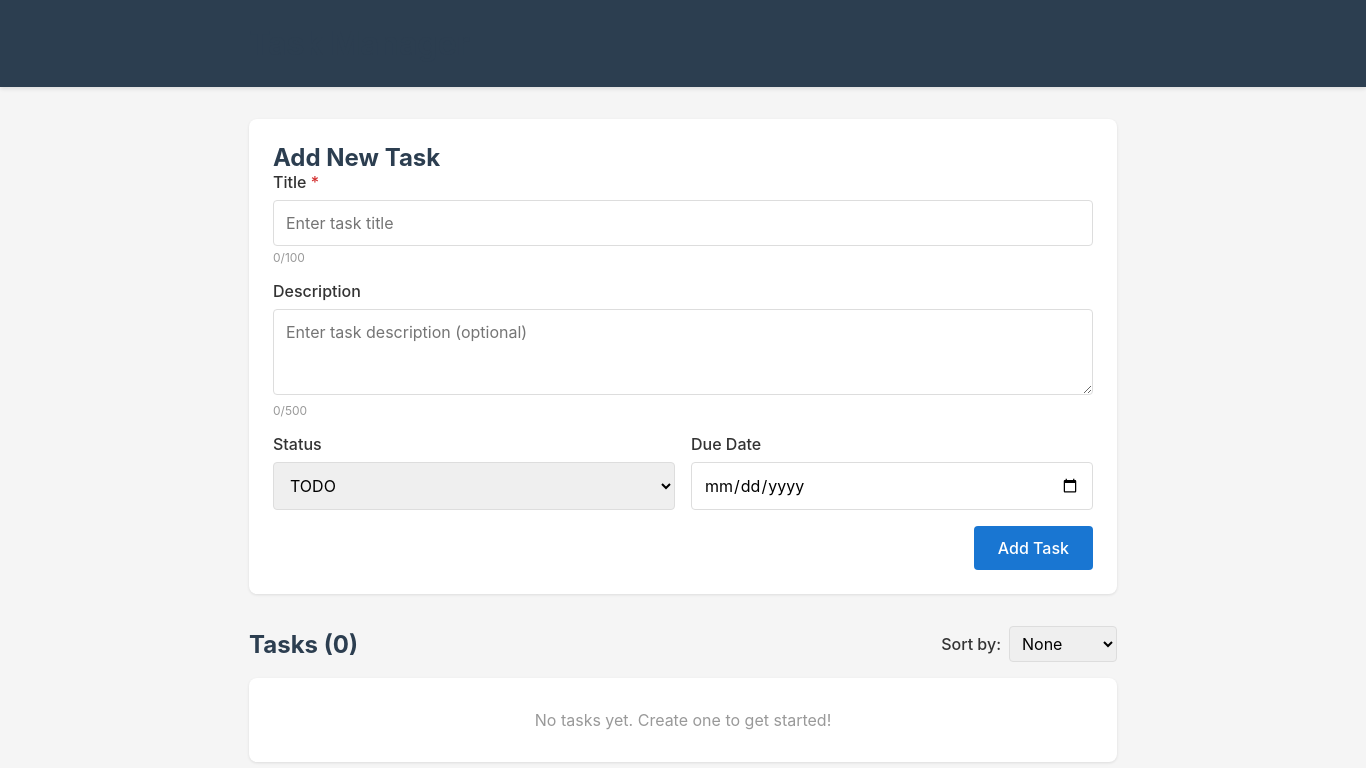
Scenario: App Component › Create Task › should display error message if creation fails
The image size is (1366, 768).
Type "New Task" into the field labelled "Title *" at (683, 223), box [273,200,1093,246]
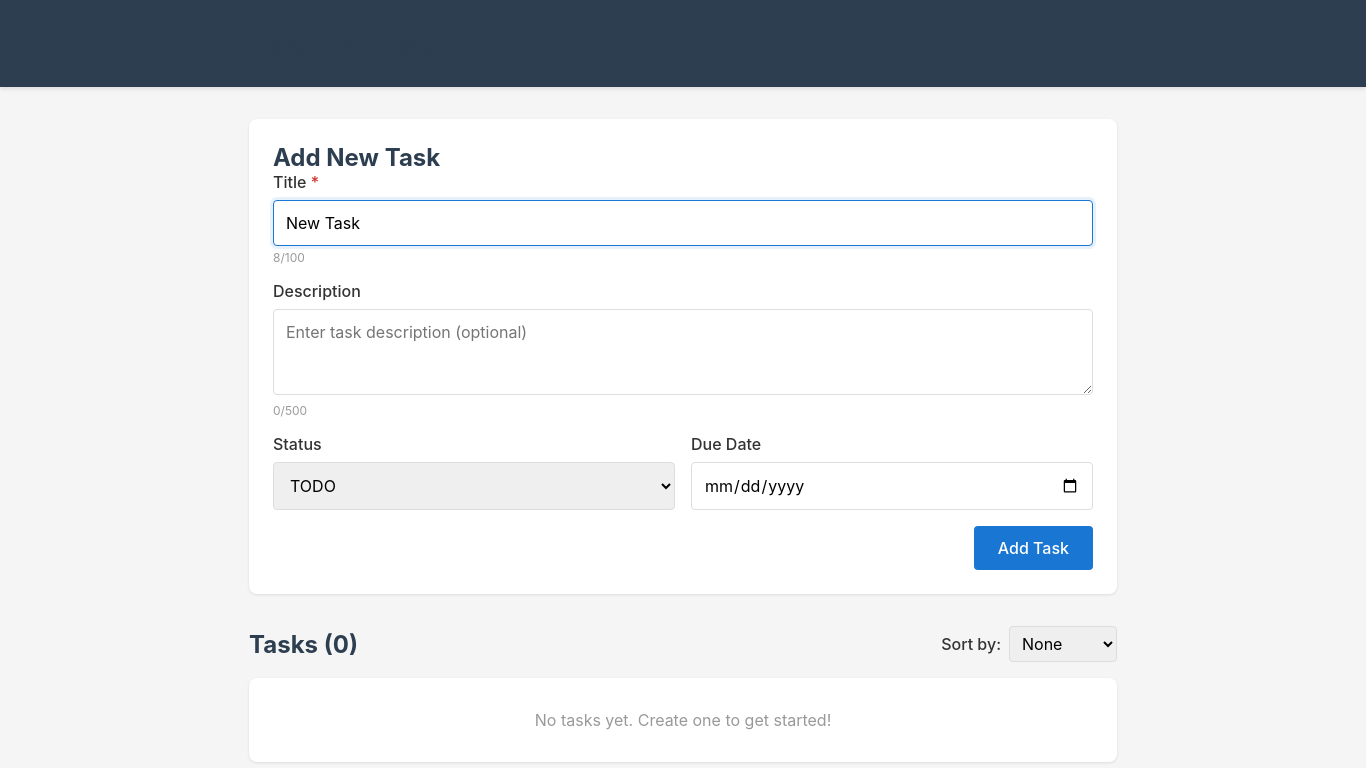
Click the button "Add Task" at (1033, 548), box [974,526,1093,570]
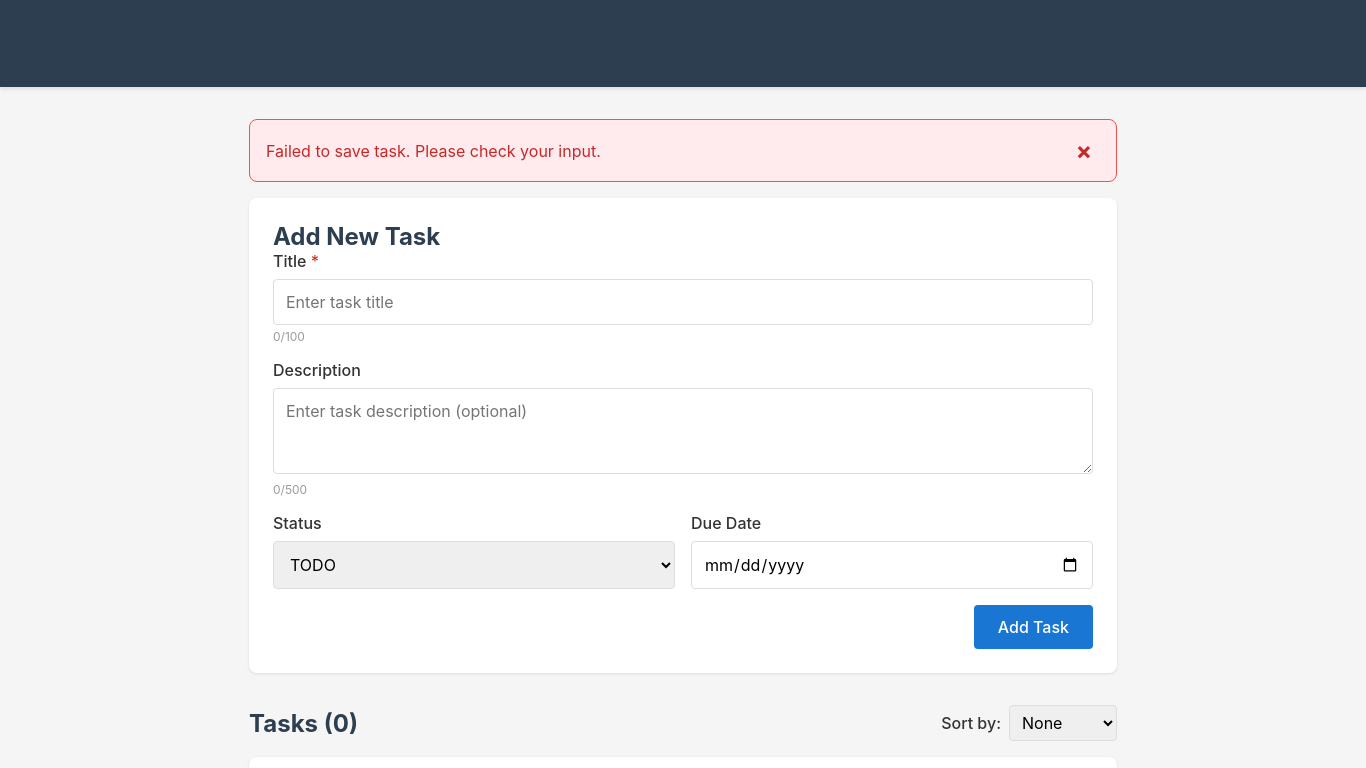
Expected: the text "Failed to save task. Please check your input." is shown, [266,140,601,160]
